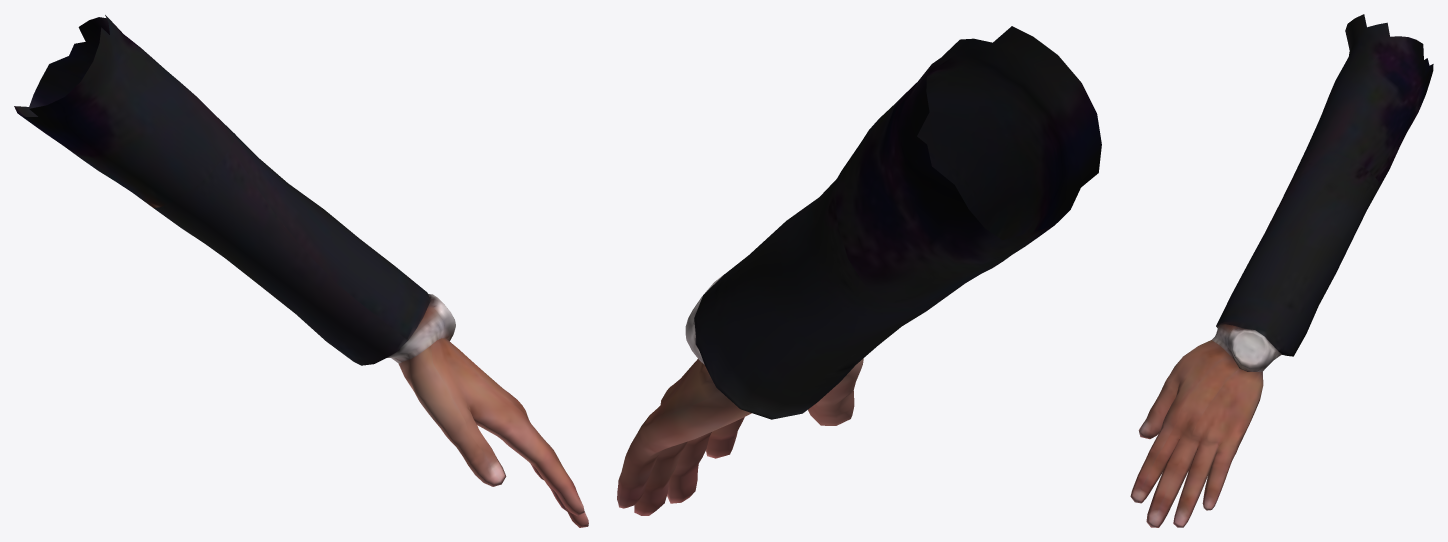
The model's file is ProfesorSubLeftArm.obj.
The picture shows the model from 3 angles, left to right: view 1: azimuth 30°, elevation 25°; view 2: azimuth 150°, elevation 25°; view 3: azimuth 270°, elevation 25°; orthographic projection. The views are drawn at different scales.
Visible parts, largest first — view 1: ProfesorSubLeftArm; view 2: ProfesorSubLeftArm; view 3: ProfesorSubLeftArm.
Boxes of the visible parts, bbox=[...] form: ProfesorSubLeftArm: bbox=[14, 15, 588, 527]; ProfesorSubLeftArm: bbox=[617, 26, 1101, 515]; ProfesorSubLeftArm: bbox=[1130, 14, 1433, 527].
Bounding box in the file's own units: 31.66 × 34.94 × 25.22.
1 material, 1 textured.
